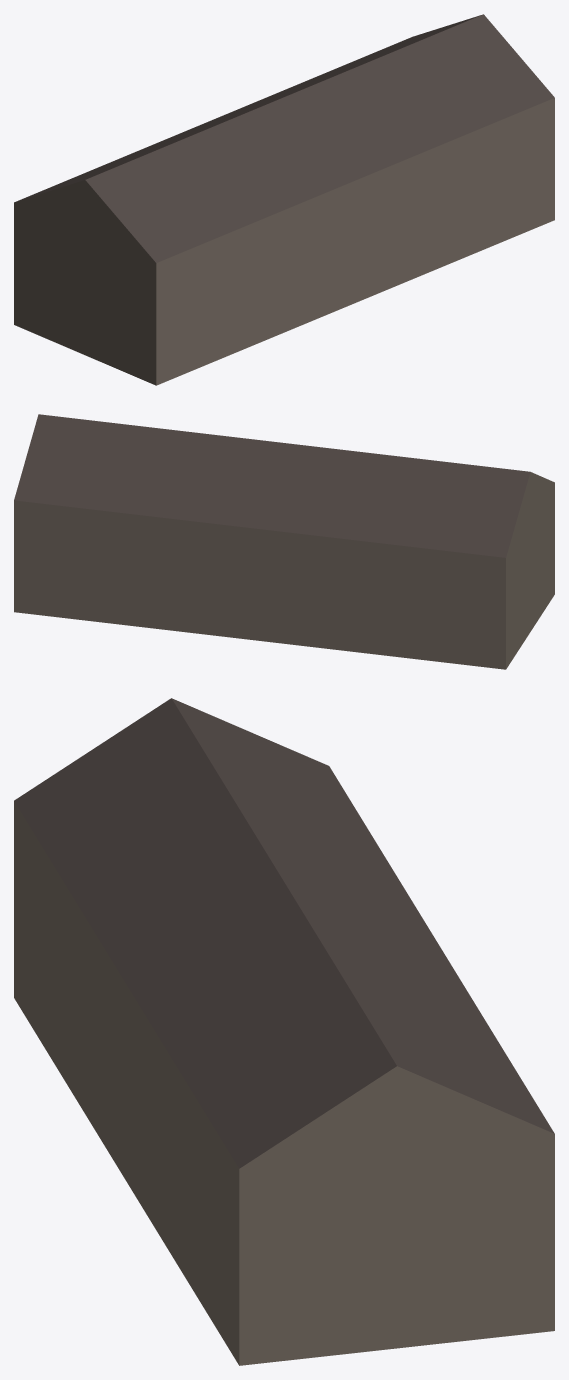
3 views of the same model, one above another, from view 1: azimuth 30°, elevation 25°; view 2: azimuth 150°, elevation 25°; view 3: azimuth 270°, elevation 25° (orthographic). The views are drawn at different scales.
Visible parts, largest first — view 1: HP-w859424204; view 2: HP-w859424204; view 3: HP-w859424204.
Part boxes in pixels (x1,y1,x2,y2): HP-w859424204: (14, 14, 554, 385); HP-w859424204: (14, 414, 554, 669); HP-w859424204: (14, 698, 554, 1365).
Bounding box in the file's own units: 26.32 × 8.6 × 14.93.
